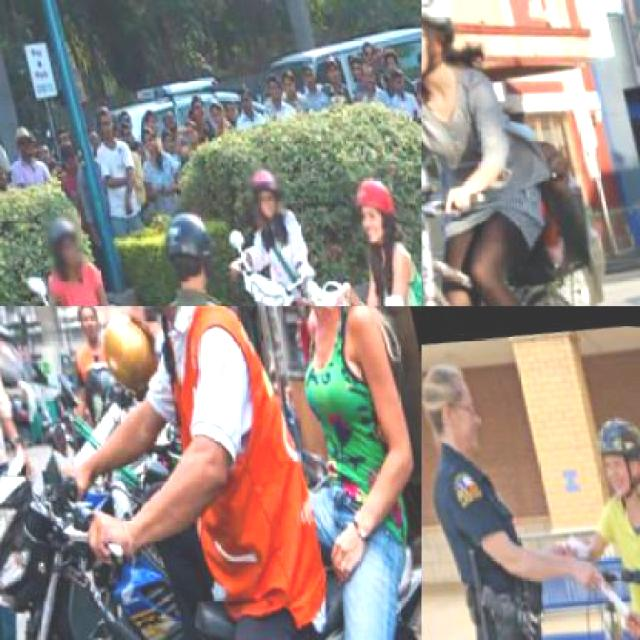With Helmet: (152, 194, 223, 294), (340, 161, 402, 253), (583, 404, 639, 496), (34, 206, 89, 283), (422, 0, 471, 86), (238, 152, 290, 225)
